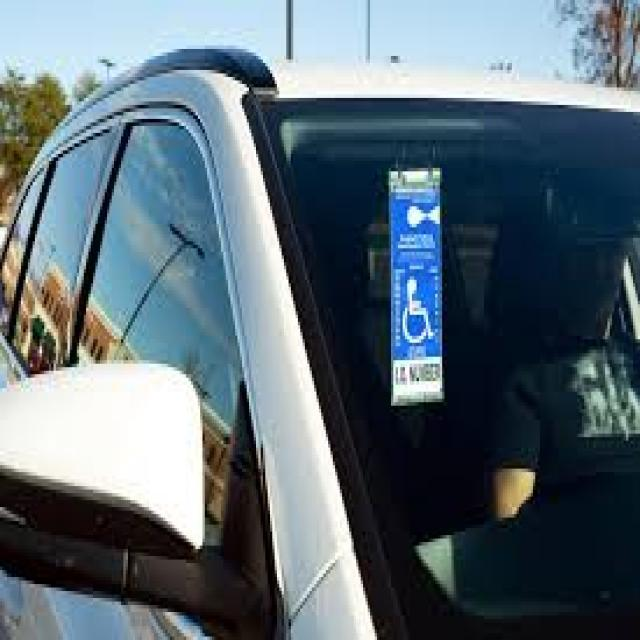symbol_of_access: (402, 278, 434, 343)
